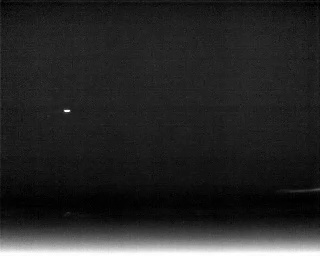AIRPLANE: (62, 107, 72, 115)
